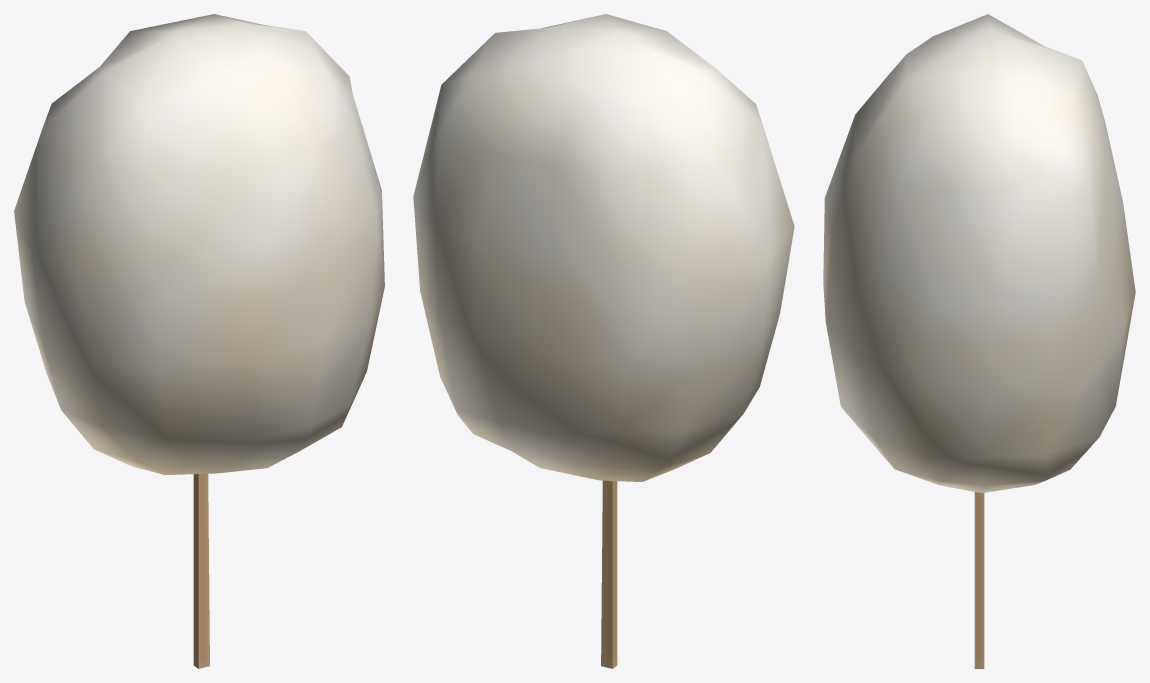
File: jsf_CottonCandy_01S.fbx
The picture shows the model from 3 angles, left to right: view 1: azimuth 30°, elevation 25°; view 2: azimuth 150°, elevation 25°; view 3: azimuth 270°, elevation 25°; orthographic projection.
Visible parts, largest first — view 1: jsf_CottonCandy_01S; view 2: jsf_CottonCandy_01S; view 3: jsf_CottonCandy_01S.
Boxes of the visible parts, bbox=[...] form: jsf_CottonCandy_01S: bbox=[14, 14, 384, 668]; jsf_CottonCandy_01S: bbox=[413, 14, 794, 668]; jsf_CottonCandy_01S: bbox=[823, 14, 1135, 668].
Size of the model in its own units: 16.1 by 29.18 by 13.17.
